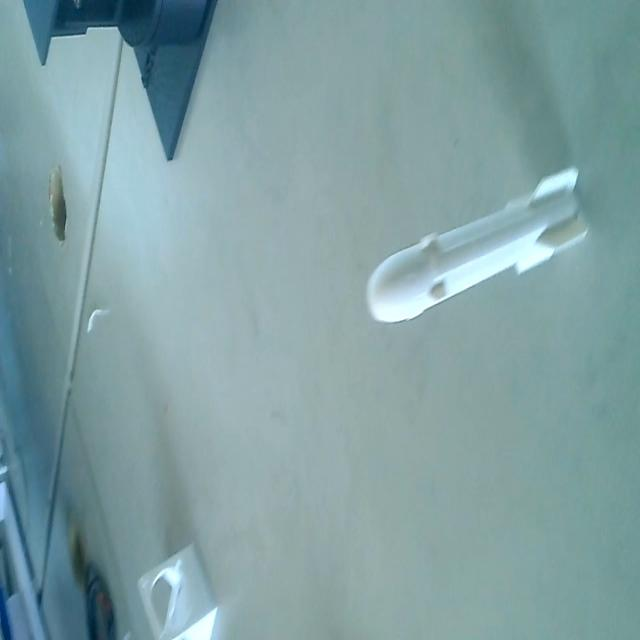Rocket: (365, 164, 591, 334)
